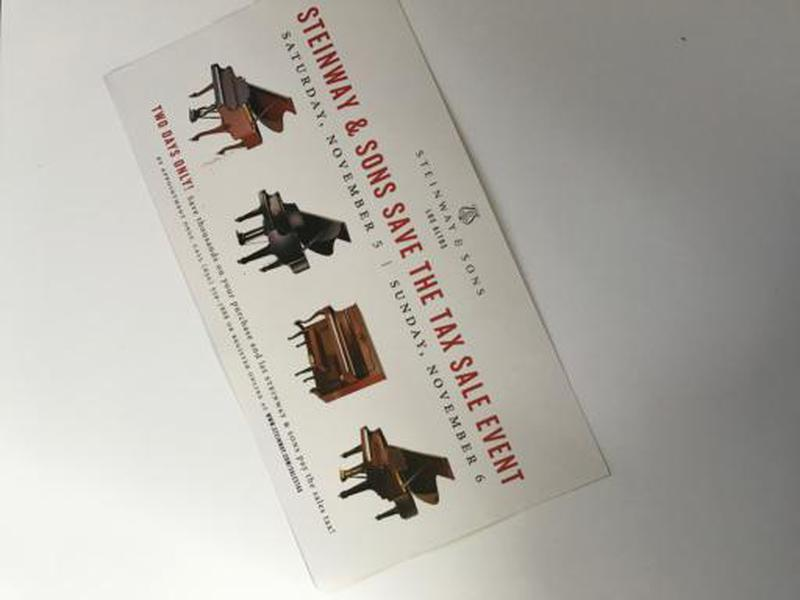paper: (97, 1, 615, 593)
